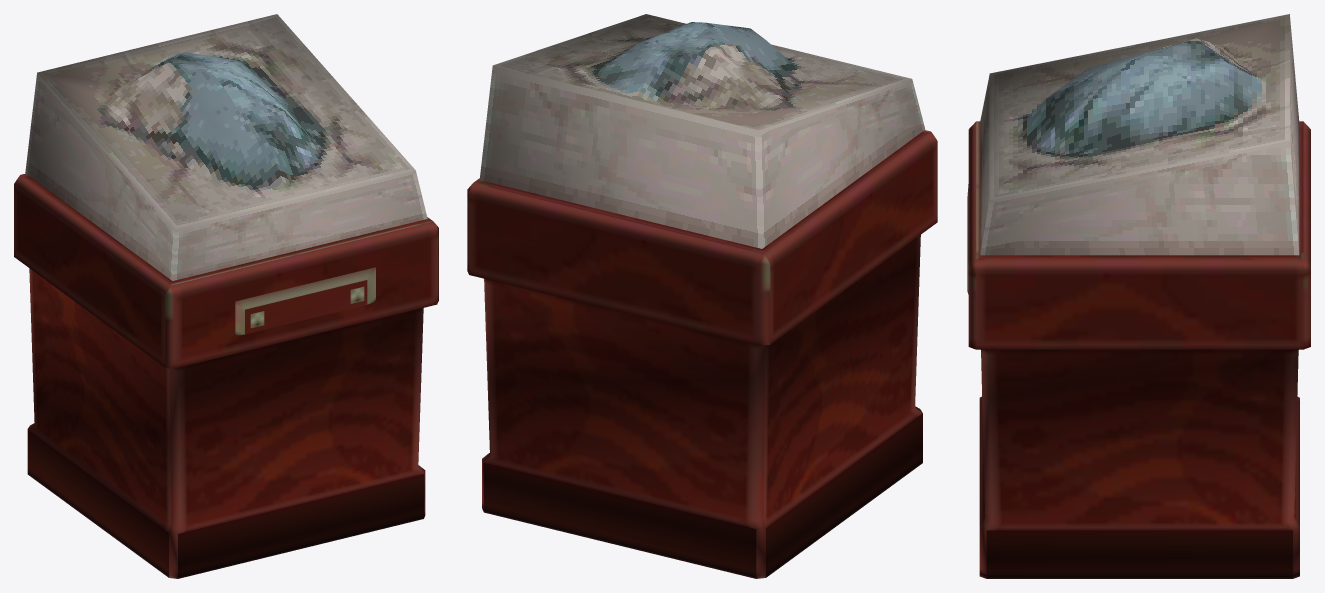
The model's file is int_fos_egg.dae.
The picture shows the model from 3 angles, left to right: view 1: azimuth 30°, elevation 25°; view 2: azimuth 150°, elevation 25°; view 3: azimuth 270°, elevation 25°; orthographic projection. The views are drawn at different scales.
Visible parts, largest first — view 1: int_fos_egg; view 2: int_fos_egg; view 3: int_fos_egg.
Part boxes in pixels (left/top/right/bottom): int_fos_egg: left=14, top=14, right=438, bottom=578; int_fos_egg: left=467, top=14, right=937, bottom=578; int_fos_egg: left=967, top=14, right=1310, bottom=578.
Bounding box in the file's own units: 27.04 × 39.7 × 27.25.
Materials: 3 (3 with a texture image).
